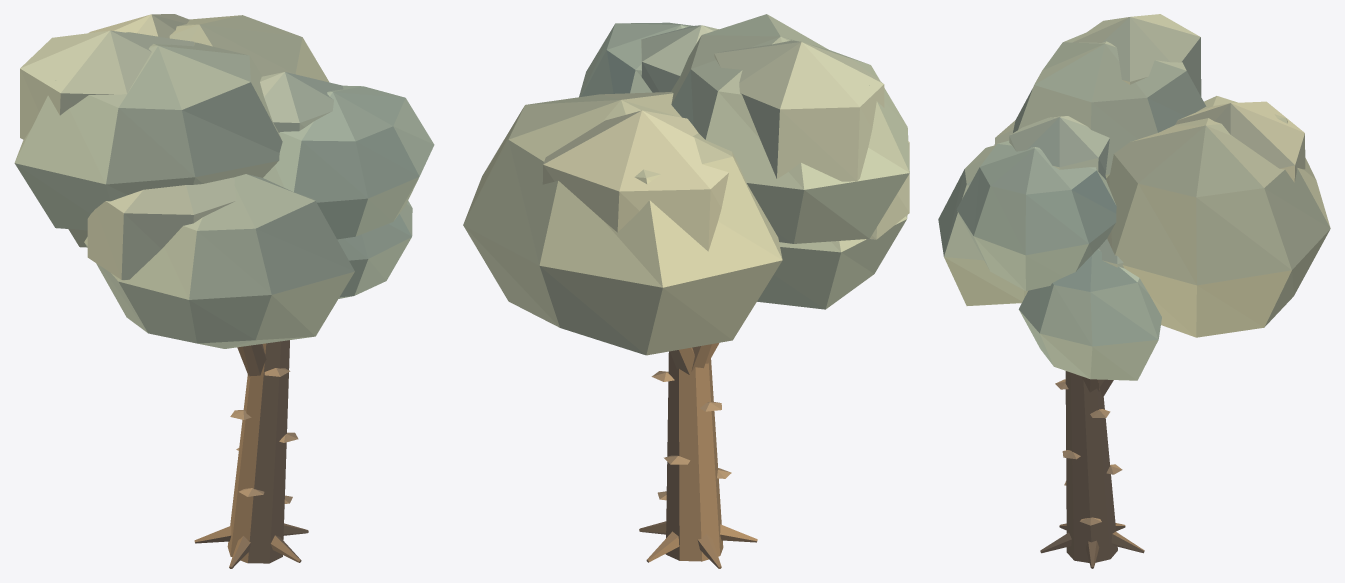
The model's file is extension_node_15_snow.glb.
The picture shows the model from 3 angles, left to right: view 1: azimuth 30°, elevation 25°; view 2: azimuth 150°, elevation 25°; view 3: azimuth 270°, elevation 25°; orthographic projection. The views are drawn at different scales.
Parts seen in each view (by area): view 1: extension_node_15_snow; view 2: extension_node_15_snow; view 3: extension_node_15_snow.
Part boxes in pixels (x1,y1,x2,y2): extension_node_15_snow: (14,14,434,568); extension_node_15_snow: (463,14,909,568); extension_node_15_snow: (938,14,1330,568).
Bounding box in the file's own units: 2.69 × 3.62 × 2.67.
